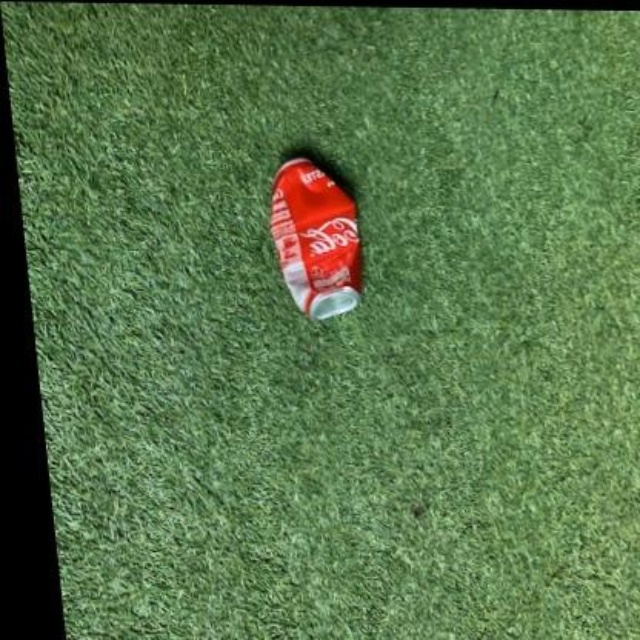trash: (271, 158, 360, 318)
